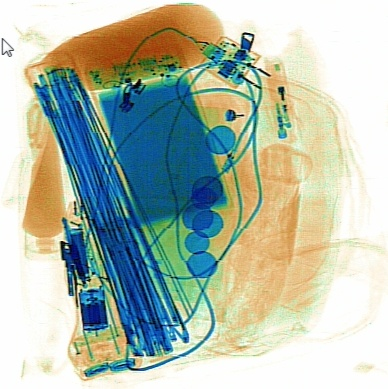lighter: (259, 56, 299, 144)
